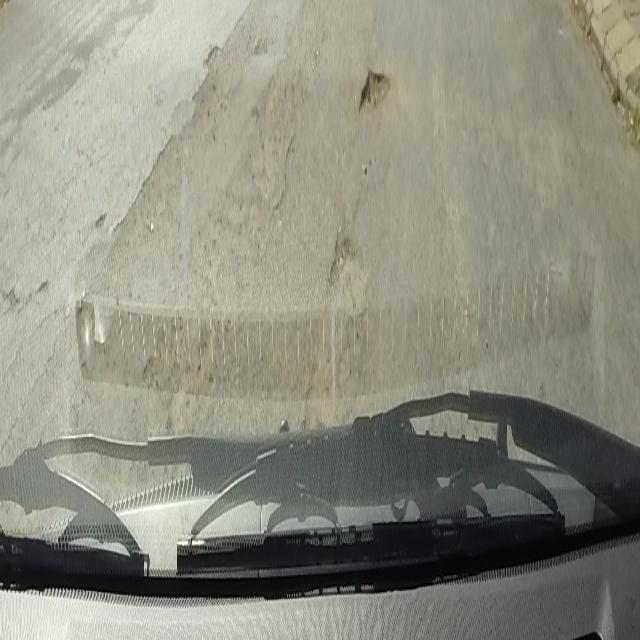pothole: (324, 220, 355, 292), (357, 60, 389, 116)
